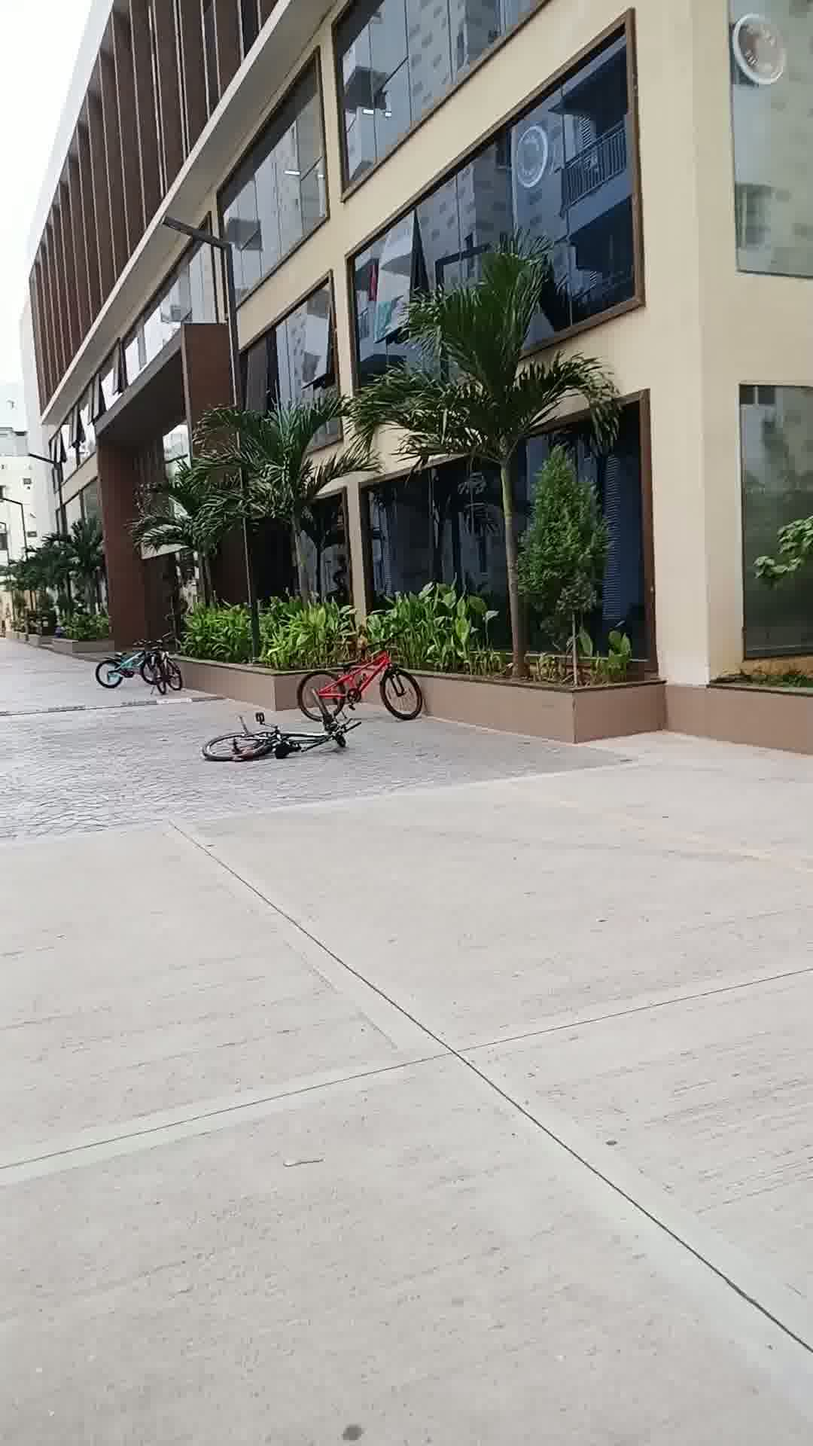bicycle: (294, 630, 432, 720), (197, 702, 362, 773), (91, 630, 195, 703)
tree: (359, 266, 609, 678), (182, 386, 362, 652), (119, 453, 248, 635), (51, 511, 112, 627)
